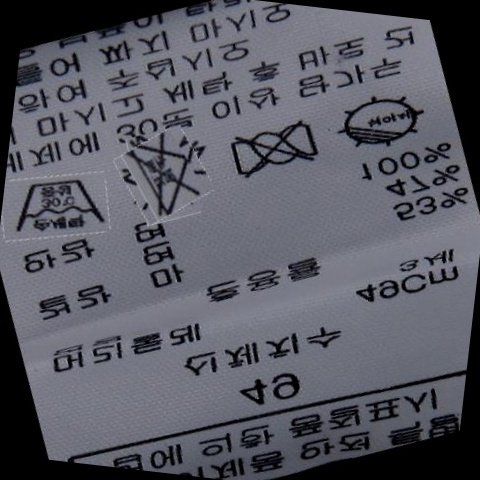DN_wring: (218, 117, 324, 180)
dry_flat_in_shade: (331, 89, 428, 154)
hand_wash: (9, 174, 106, 242)
non_chlorine_bleach: (122, 142, 206, 218)
